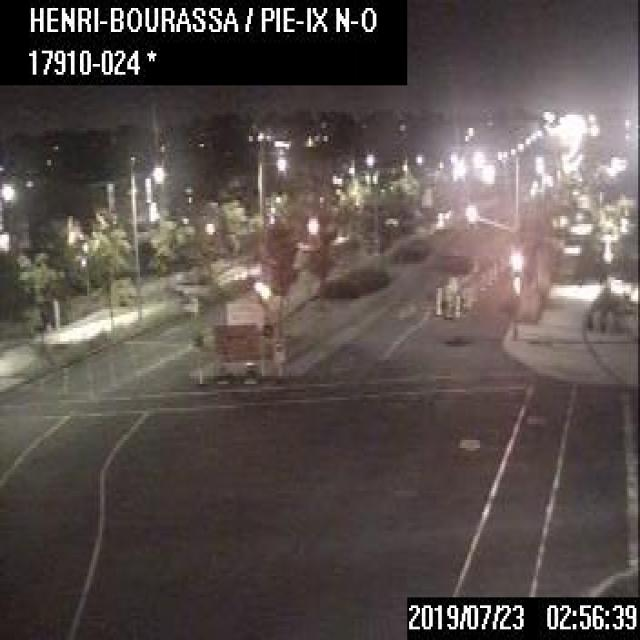construction: (198, 293, 276, 384), (431, 251, 465, 317), (433, 284, 441, 314), (452, 290, 460, 316)
